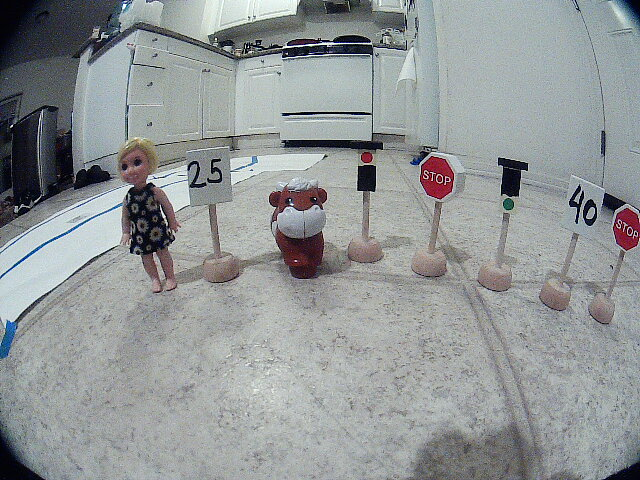Cow: (260, 168, 343, 289)
Green Traffic Light: (489, 146, 536, 225)
Person: (104, 136, 192, 300)
Red Traffic Light: (343, 133, 407, 211)
Speed Limit 25: (177, 143, 258, 217)
Speed Limit 40: (559, 172, 613, 242)
Stop Sign: (416, 144, 473, 215), (611, 206, 640, 250)
